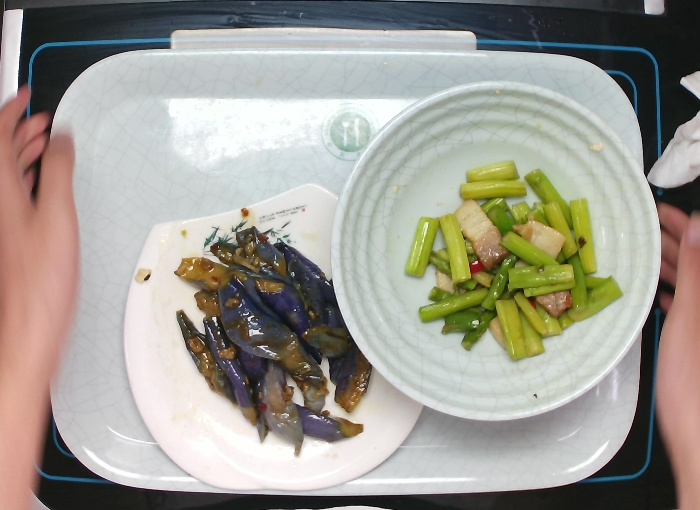JYsf-Da_Tang_Wan: (328, 76, 662, 427)
JYsf-Mian_Pan: (115, 176, 427, 493)
